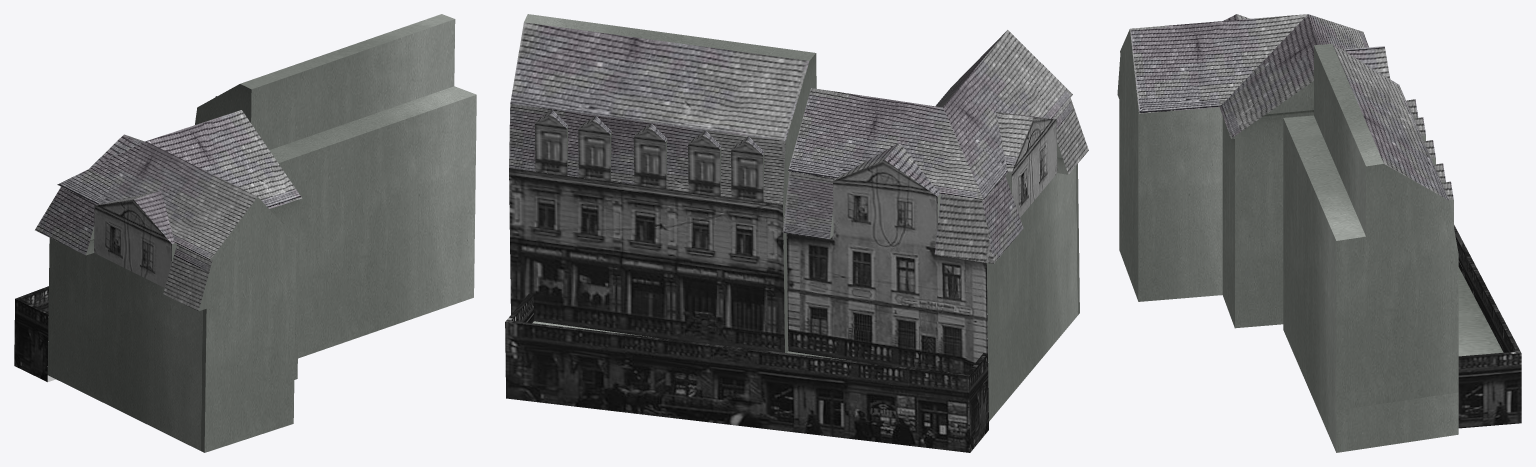
The model's file is bohnlein.glb.
The picture shows the model from 3 angles, left to right: view 1: azimuth 30°, elevation 25°; view 2: azimuth 150°, elevation 25°; view 3: azimuth 270°, elevation 25°; orthographic projection. The views are drawn at different scales.
Visible parts, largest first — view 1: Batched_Building__4_BD.1; view 2: Batched_Building__4_BD.1; view 3: Batched_Building__4_BD.1.
Part boxes in pixels (x1,y1,x2,y2): Batched_Building__4_BD.1: (14,14,476,452); Batched_Building__4_BD.1: (505,14,1088,452); Batched_Building__4_BD.1: (1117,14,1521,452).
Bounding box in the file's own units: 29.71 × 18.41 × 23.35.
7 materials, 6 textured.
